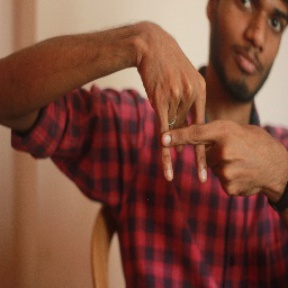H: (133, 72, 238, 186)
